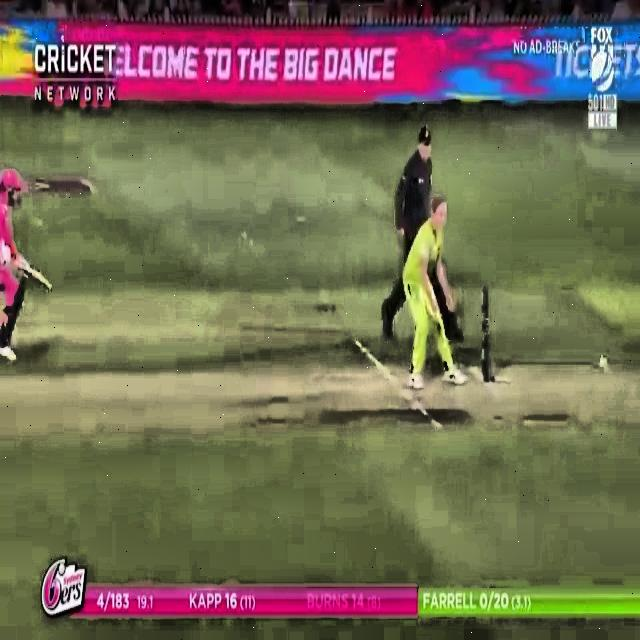Ball: (590, 354, 619, 375)
Pitch_Line: (340, 338, 450, 437)
Undis_Wicket: (469, 280, 499, 389)
